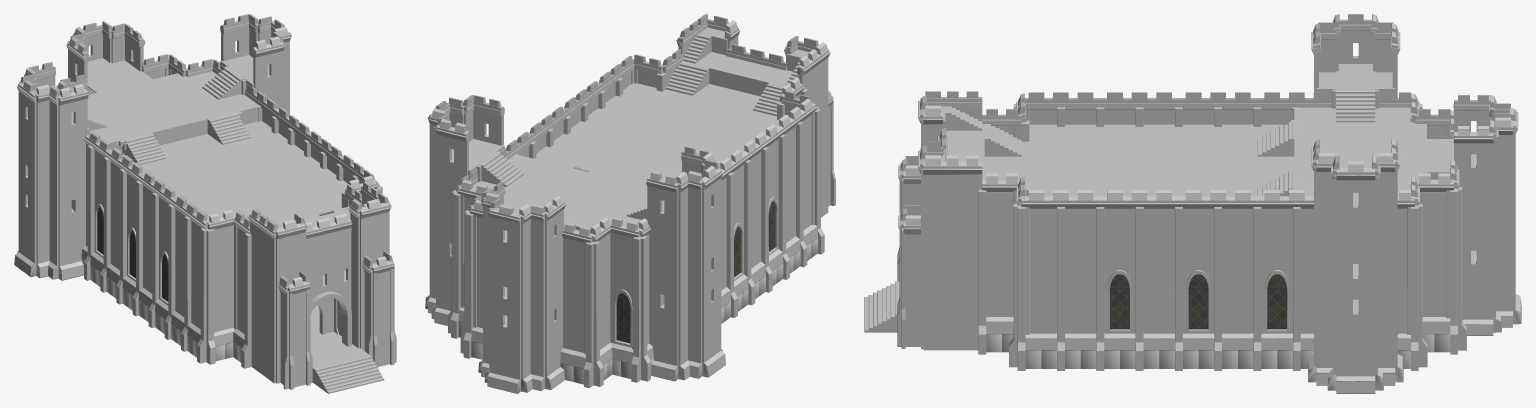
The model's file is Keep_1A1.fbx.
3 renders of one model, left to right at view 1: azimuth 30°, elevation 25°; view 2: azimuth 150°, elevation 25°; view 3: azimuth 270°, elevation 25°, orthographic. The views are drawn at different scales.
Visible parts, largest first — view 1: Keep_1A1; view 2: Keep_1A1; view 3: Keep_1A1.
Boxes of the visible parts, x1,y1,x2,y2 form: Keep_1A1: (14, 14, 396, 393); Keep_1A1: (425, 14, 835, 393); Keep_1A1: (864, 14, 1521, 393).
Bounding box in the file's own units: 3774 × 2570 × 6687.
